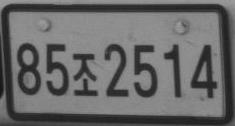1: (161, 43, 189, 98)
2: (103, 43, 129, 97)
4: (190, 44, 218, 98)
5: (132, 44, 158, 98), (45, 43, 69, 96)
8: (15, 42, 42, 95)
조: (72, 52, 98, 97)
